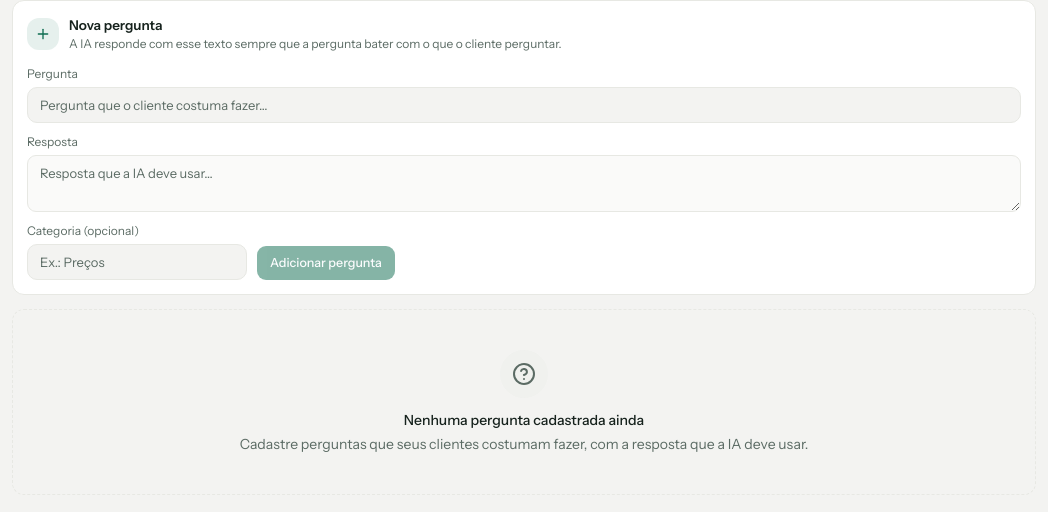
it: AiFaqPanel (Cérebro da IA v3, Fase 2) › cria uma nova FAQ ao submeter o formulário
Type "Vocês entregam?" into the field labelled "Pergunta" at x=524, y=105, box x1=27 y1=87 x2=1021 y2=123
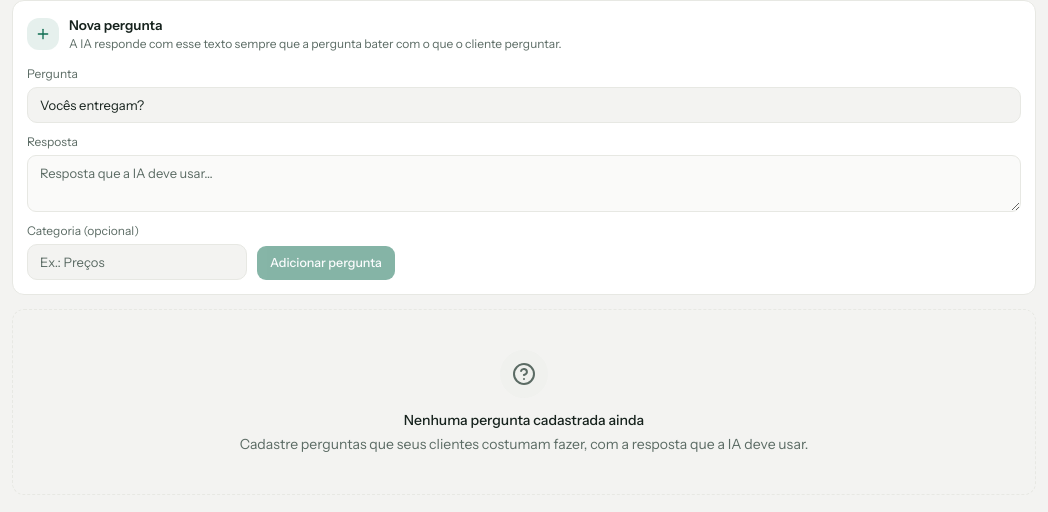
Type "Sim" into the text box labelled "Resposta" at x=524, y=184, box x1=27 y1=155 x2=1021 y2=212
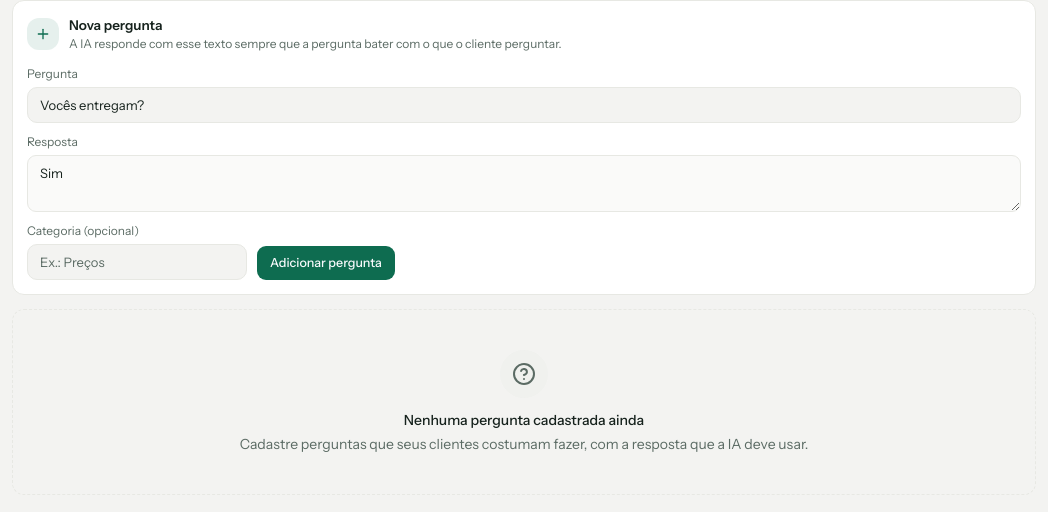
Click the button "Adicionar pergunta" at x=326, y=263, box x1=257 y1=246 x2=395 y2=280
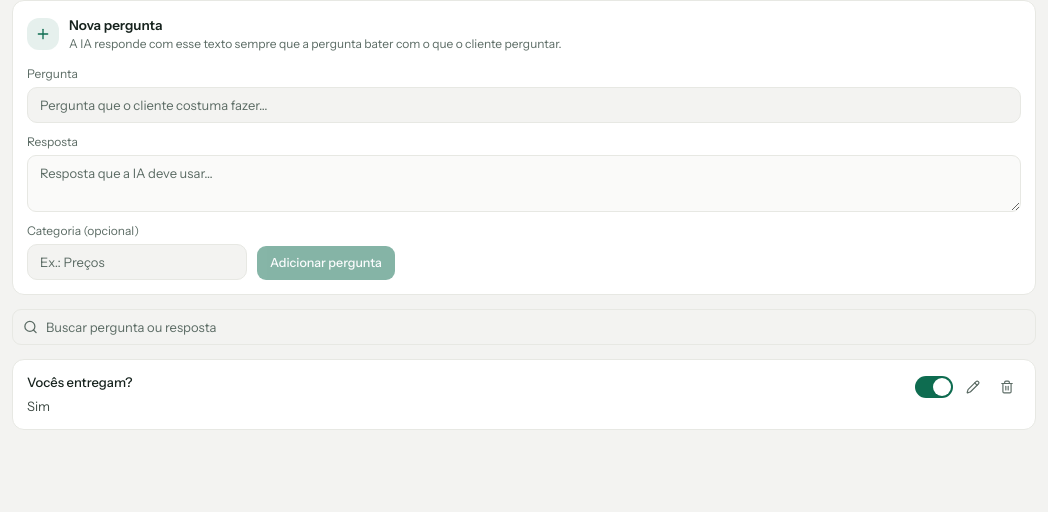
Expected: the text "Vocês entregam?" is shown, x1=27 y1=373 x2=132 y2=393
